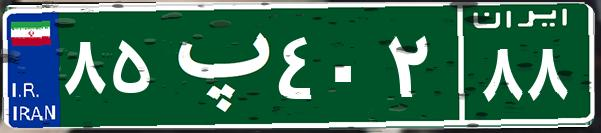0: (330, 28, 385, 110)
2: (385, 28, 445, 110)
4: (273, 28, 330, 110)
5: (110, 28, 158, 105)
8: (57, 26, 110, 107), (475, 38, 525, 113), (525, 38, 570, 115)
پ: (158, 15, 273, 115)
